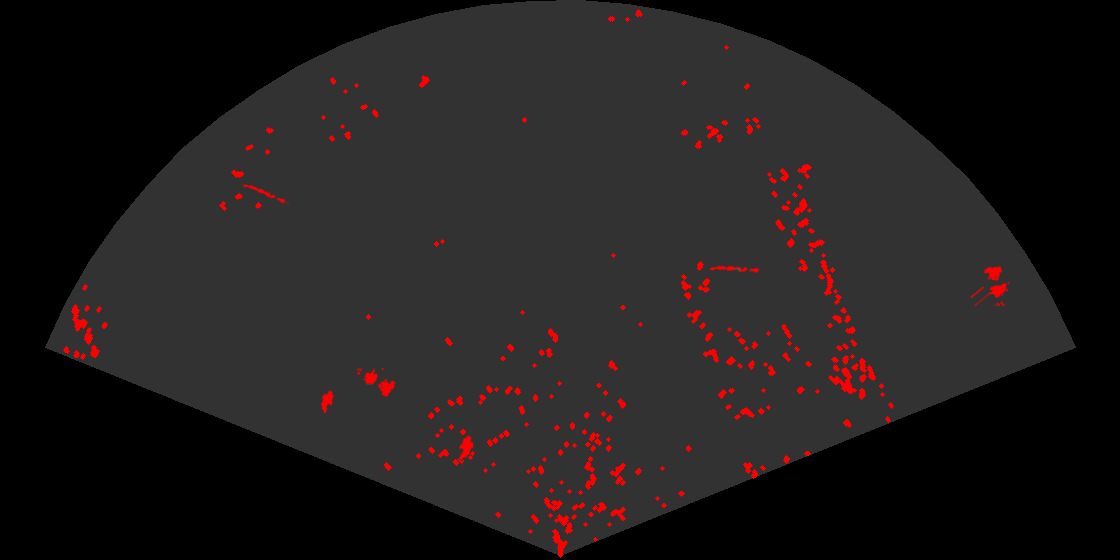AUV: (457, 433, 475, 462), (319, 389, 336, 415)
cage: (971, 264, 1011, 306), (357, 368, 397, 398)
chain: (241, 182, 289, 207), (709, 264, 760, 274)
